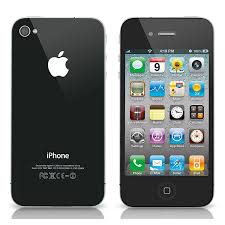iphone: (8, 16, 105, 207), (119, 16, 214, 211)
iphone4: (8, 16, 105, 207), (118, 15, 213, 210)
